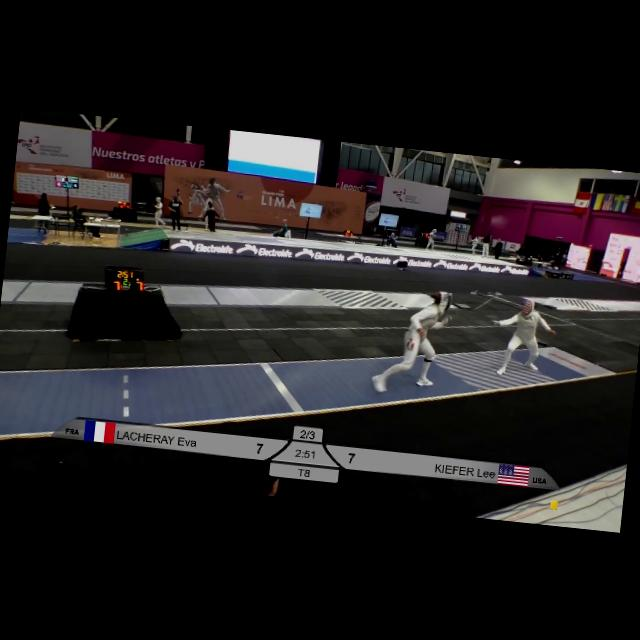blade: (442, 292, 494, 326)
